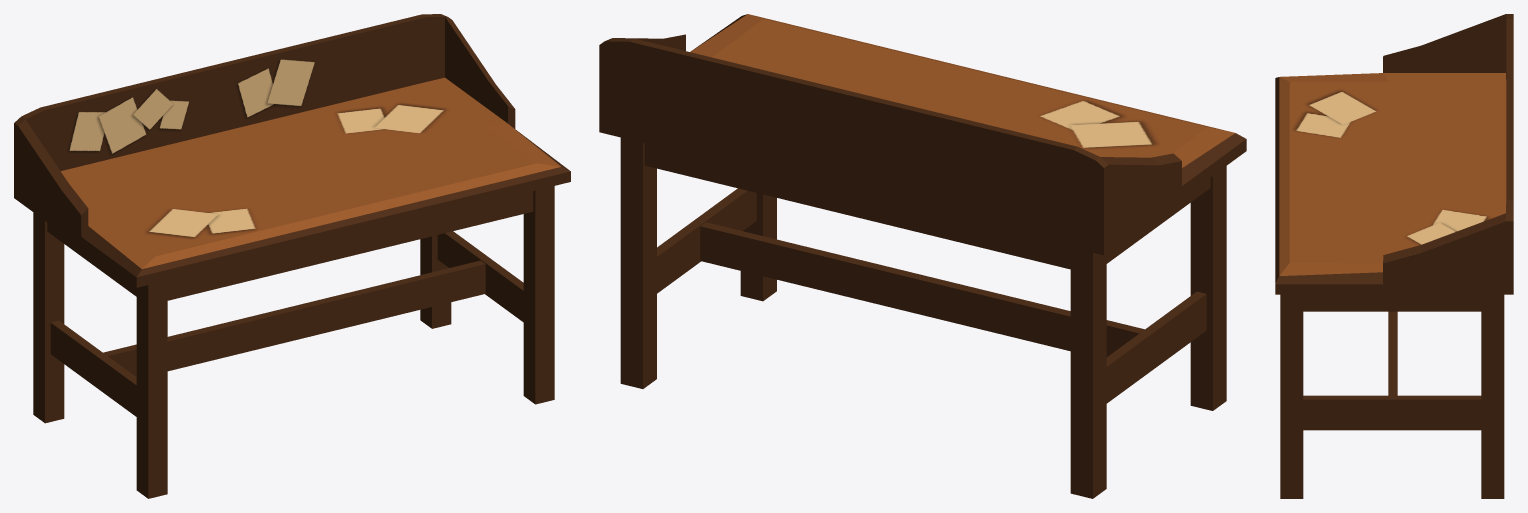
Rendered from SimpleDesk.fbx.
3 renders of one model, left to right at view 1: azimuth 30°, elevation 25°; view 2: azimuth 150°, elevation 25°; view 3: azimuth 270°, elevation 25°, orthographic. The views are drawn at different scales.
Parts seen in each view (by area): view 1: Top, Cube.008; view 2: Top, Cube.008; view 3: Top, Cube.008.
Boxes of the visible parts, x1,y1,x2,y2 form: Top: [14, 14, 570, 287]; Cube.008: [33, 186, 554, 498]; Top: [599, 14, 1246, 255]; Cube.008: [620, 137, 1226, 498]; Top: [1275, 14, 1513, 294]; Cube.008: [1280, 294, 1504, 498].
Bounding box in the file's own units: 409 × 271 × 200.
Materials: 2 (2 with a texture image).
